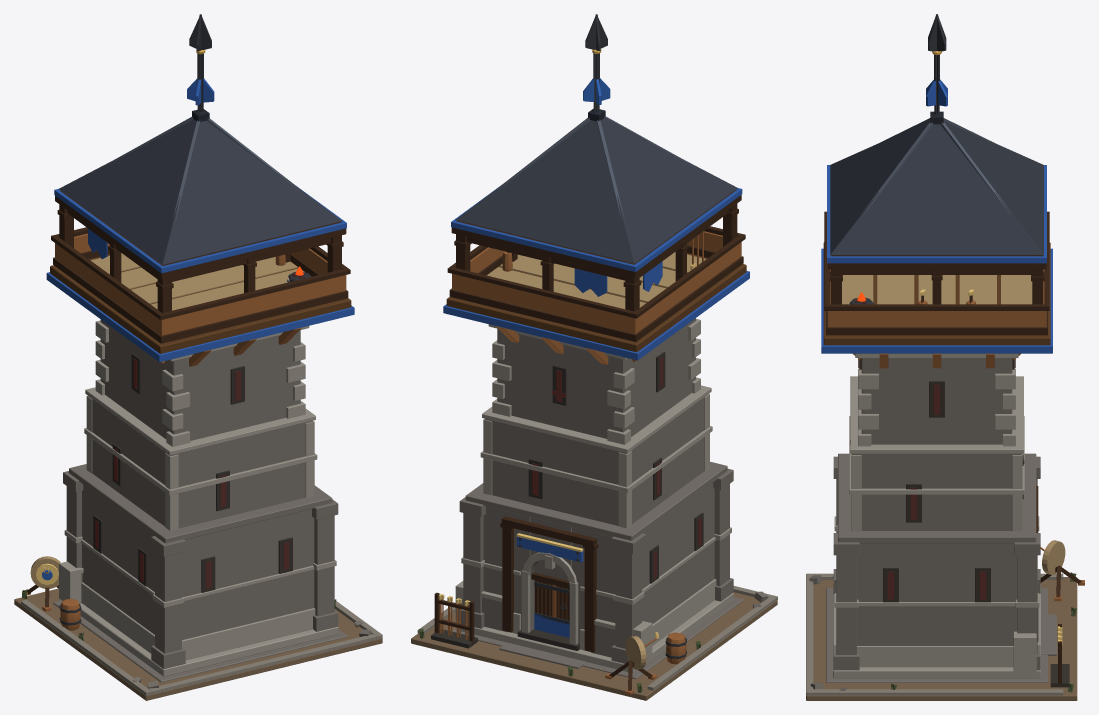
3 views of the same model, side by side, from view 1: azimuth 30°, elevation 25°; view 2: azimuth 150°, elevation 25°; view 3: azimuth 270°, elevation 25° (orthographic). The views are drawn at different scales.
Parts seen in each view (by area): view 1: AT-stone_mid, AT-roof, AT-stone_light, AT-wood_dark, AT-wood_warm, AT-team, AT-earth, AT-sand, AT-wood_mid, AT-paving, AT-stone_dark, AT-coal (+2 smaller); view 2: AT-stone_mid, AT-roof, AT-stone_light, AT-wood_dark, AT-team, AT-wood_warm, AT-earth, AT-sand, AT-wood_mid, AT-stone_dark, AT-paving, AT-iron (+2 smaller); view 3: AT-stone_mid, AT-roof, AT-stone_light, AT-wood_dark, AT-earth, AT-team, AT-sand, AT-wood_warm, AT-wood_mid, AT-paving, AT-stone_dark, AT-roof_pale (+2 smaller).
Part boxes in pixels (x1=…): AT-stone_mid: x1=53, y1=319, x2=371, y2=688; AT-roof: x1=59, y1=119, x2=342, y2=264; AT-stone_light: x1=59, y1=279, x2=338, y2=676; AT-wood_dark: x1=27, y1=190, x2=350, y2=607; AT-wood_warm: x1=22, y1=233, x2=346, y2=630; AT-team: x1=42, y1=78, x2=354, y2=580; AT-earth: x1=14, y1=588, x2=382, y2=700; AT-sand: x1=30, y1=253, x2=310, y2=588; AT-wood_mid: x1=50, y1=254, x2=351, y2=353; AT-paving: x1=21, y1=599, x2=382, y2=695; AT-stone_dark: x1=93, y1=353, x2=292, y2=592; AT-coal: x1=95, y1=272, x2=304, y2=589; AT-stone_mid: x1=452, y1=318, x2=768, y2=679; AT-roof: x1=455, y1=119, x2=737, y2=263; AT-stone_light: x1=455, y1=319, x2=733, y2=673; AT-wood_dark: x1=434, y1=189, x2=745, y2=690; AT-team: x1=443, y1=78, x2=749, y2=637; AT-wood_warm: x1=439, y1=231, x2=741, y2=695; AT-earth: x1=411, y1=592, x2=777, y2=700; AT-sand: x1=487, y1=252, x2=705, y2=669; AT-wood_mid: x1=446, y1=253, x2=746, y2=620; AT-stone_dark: x1=431, y1=352, x2=703, y2=650; AT-paving: x1=417, y1=586, x2=777, y2=690; AT-iron: x1=519, y1=14, x2=686, y2=658; AT-stone_mid: x1=809, y1=358, x2=1056, y2=690; AT-roof: x1=830, y1=121, x2=1043, y2=255; AT-stone_light: x1=833, y1=353, x2=1040, y2=678; AT-wood_dark: x1=824, y1=211, x2=1081, y2=684; AT-earth: x1=806, y1=577, x2=1077, y2=700; AT-team: x1=821, y1=79, x2=1052, y2=353; AT-sand: x1=842, y1=275, x2=1065, y2=574; AT-wood_warm: x1=827, y1=269, x2=1084, y2=601; AT-wood_mid: x1=823, y1=242, x2=1050, y2=345; AT-paving: x1=806, y1=573, x2=1063, y2=695; AT-stone_dark: x1=860, y1=358, x2=1069, y2=687; AT-roof_pale: x1=862, y1=118, x2=1012, y2=214.
Size of the model in its own units: 7.08 by 17.46 by 7.03.
